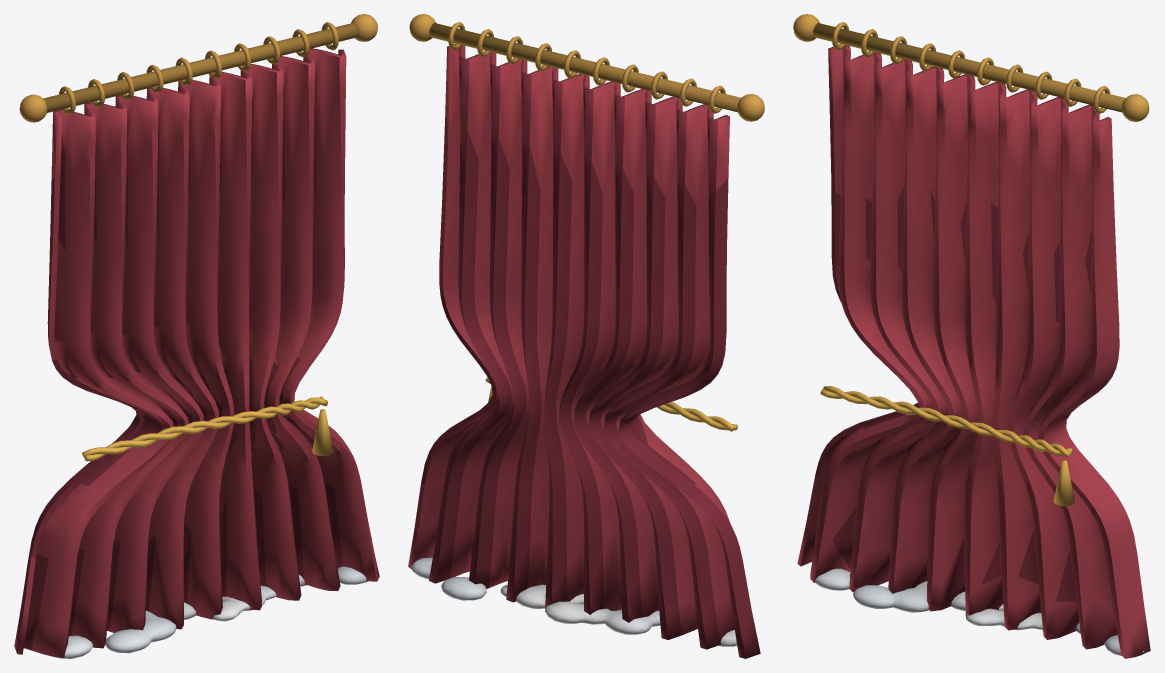
Rendered from frost_curtain.glb.
The picture shows the model from 3 angles, left to right: view 1: azimuth 30°, elevation 25°; view 2: azimuth 150°, elevation 25°; view 3: azimuth 330°, elevation 25°; orthographic projection.
Parts seen in each view (by area): view 1: frost_curtain; view 2: frost_curtain; view 3: frost_curtain.
Boxes of the visible parts, bbox=[...] form: frost_curtain: bbox=[14, 14, 379, 658]; frost_curtain: bbox=[408, 14, 764, 658]; frost_curtain: bbox=[793, 14, 1150, 658].
Size of the model in its own units: 37.96 by 57.55 by 8.1.
